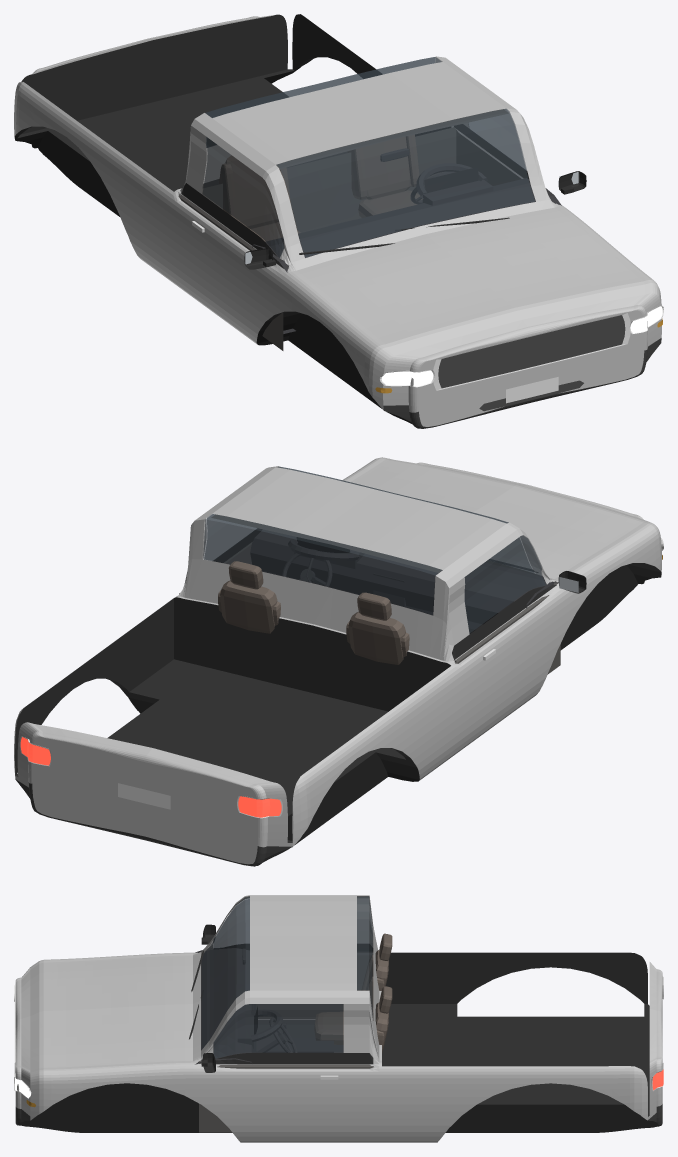
The model's file is car_mammoth.fbx.
3 views of the same model, one above another, from view 1: azimuth 30°, elevation 25°; view 2: azimuth 150°, elevation 25°; view 3: azimuth 270°, elevation 25° (orthographic). The views are drawn at different scales.
Visible parts, largest first — view 1: mammoth__hood, mammoth__glass, mammoth__bed, mammoth__roof, mammoth__cabin, mammoth__quarterR, mammoth__fascia, mammoth__doorR, mammoth__seats, mammoth__interior, mammoth__grille, mammoth__wells (+12 smaller); view 2: mammoth__bed, mammoth__rearPanel, mammoth__roof, mammoth__glass, mammoth__hood, mammoth__quarterR, mammoth__interior, mammoth__doorR, mammoth__trunk, mammoth__wells, mammoth__seats, mammoth__pillars (+8 smaller); view 3: mammoth__bed, mammoth__hood, mammoth__quarterL, mammoth__glass, mammoth__wells, mammoth__doorL, mammoth__roof, mammoth__interior, mammoth__fenderFL, mammoth__pillars, mammoth__cabin, mammoth__seats (+5 smaller).
Boxes of the visible parts, x1,y1,x2,y2 form: mammoth__hood: (289, 206, 652, 364); mammoth__glass: (202, 57, 534, 257); mammoth__bed: (18, 14, 451, 191); mammoth__roof: (202, 62, 516, 170); mammoth__cabin: (178, 109, 520, 350); mammoth__quarterR: (14, 82, 185, 289); mammoth__fascia: (408, 306, 647, 426); mammoth__doorR: (176, 197, 278, 344); mammoth__seats: (218, 134, 422, 241); mammoth__interior: (252, 148, 561, 333); mammoth__grille: (438, 315, 625, 411); mammoth__wells: (14, 57, 421, 428); mammoth__bed: (15, 597, 450, 842); mammoth__rearPanel: (28, 732, 267, 864); mammoth__roof: (203, 467, 516, 576); mammoth__glass: (203, 466, 545, 633); mammoth__hood: (343, 457, 652, 579); mammoth__quarterR: (260, 657, 468, 846); mammoth__interior: (250, 529, 558, 633); mammoth__doorR: (459, 589, 561, 749); mammoth__trunk: (178, 559, 558, 662); mammoth__wells: (106, 563, 661, 866); mammoth__seats: (218, 561, 409, 664); mammoth__pillars: (184, 466, 551, 652); mammoth__bed: (382, 952, 649, 1116); mammoth__hood: (15, 952, 192, 1073); mammoth__quarterL: (365, 1060, 656, 1142); mammoth__glass: (201, 896, 372, 1058); mammoth__wells: (19, 1083, 659, 1132); mammoth__doorL: (209, 1064, 365, 1142); mammoth__roof: (250, 895, 356, 997); mammoth__interior: (195, 948, 343, 1064); mammoth__fenderFL: (21, 1064, 209, 1120); mammoth__pillars: (201, 895, 373, 1060); mammoth__cabin: (199, 951, 373, 1132); mammoth__seats: (314, 933, 392, 1053).
Size of the model in its own units: 2.78 by 1.38 by 5.53.
